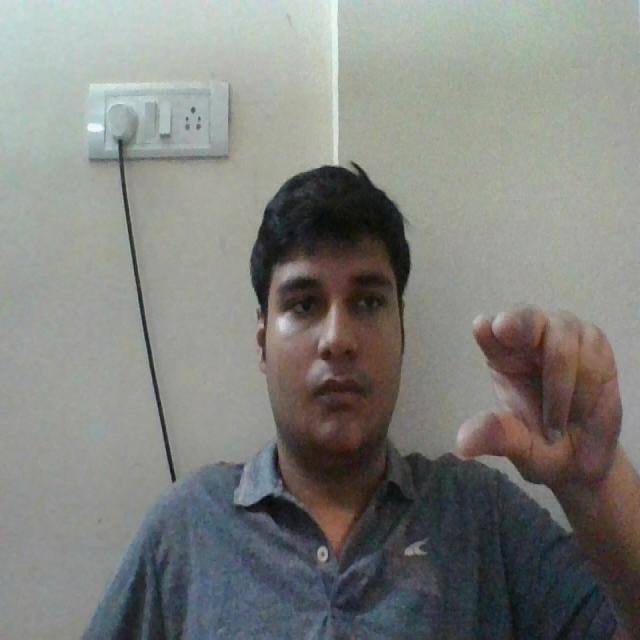no: (440, 296, 630, 512)
